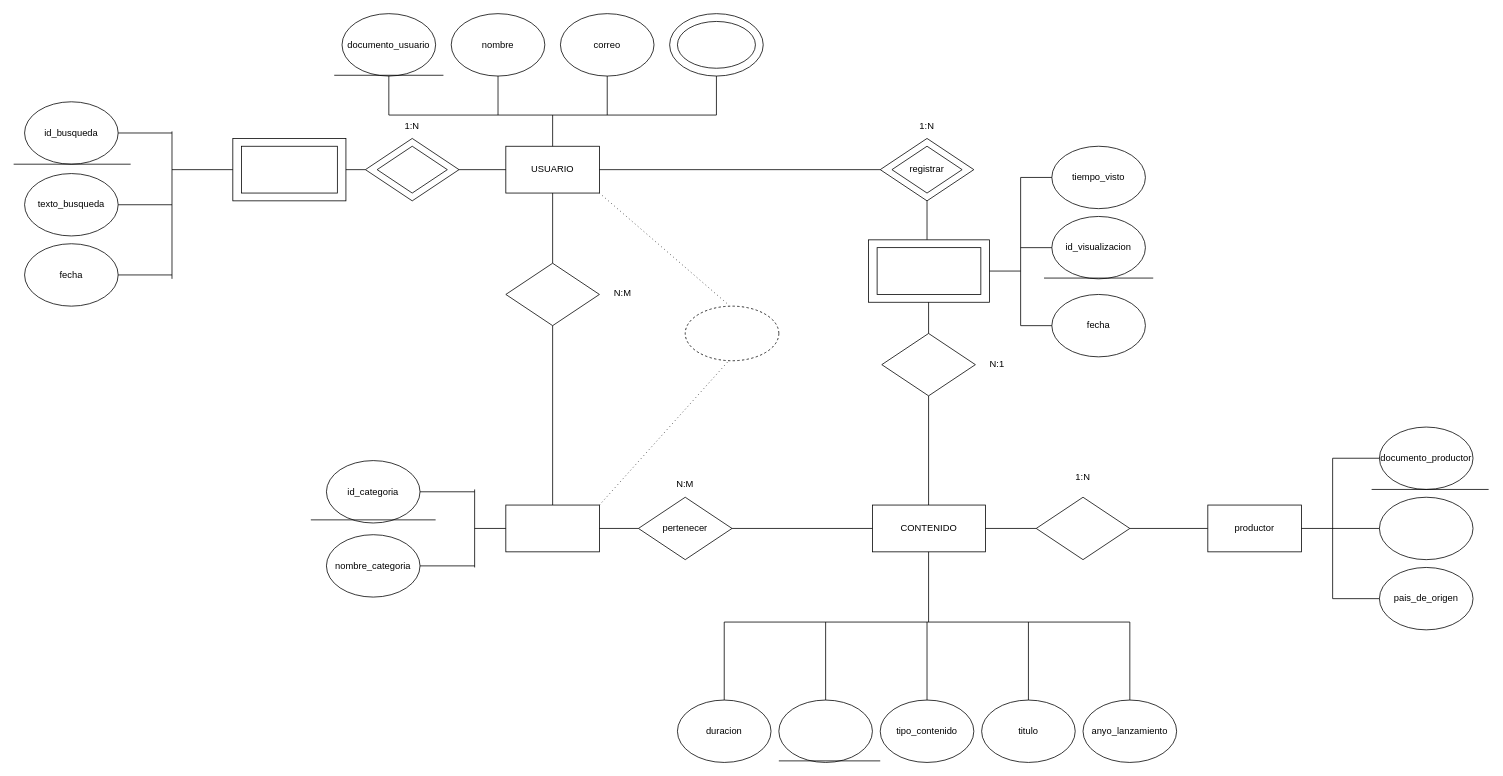
This 1503x776 diagram has some shape labels left out. The centre of each missing label's shape, as x and y in pixels:
BUSQUEDA: the point at 289,169
CATEGORIA: the point at 552,528
codigo_imdb: the point at 825,730
metodo_de_pago: the point at 716,44
nombre_productor: the point at 1426,528
preferir: the point at 552,294
producir: the point at 1082,528
realizar: the point at 411,169
veces_vista: the point at 731,333
ver: the point at 928,364
VISUALIZACIÓN: the point at 928,270
